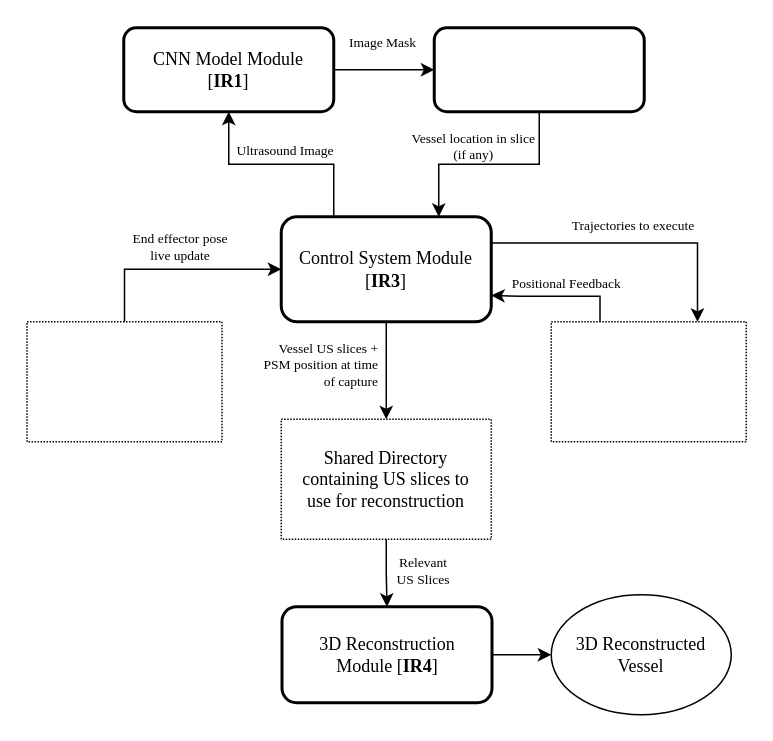
Some shapes in this 773 by 741 pixel diagram are drawn without their labels. The centre of each missing label's shape, as x and y in pixels:
"Centroid Detection Module [ IR2 ]" belongs at (538,69).
"Operating PSM(s) controlled by the surgeon (OPSM)" belongs at (124,381).
"PSM carrying the ultrasound probe (USPSM)" belongs at (648,381).
